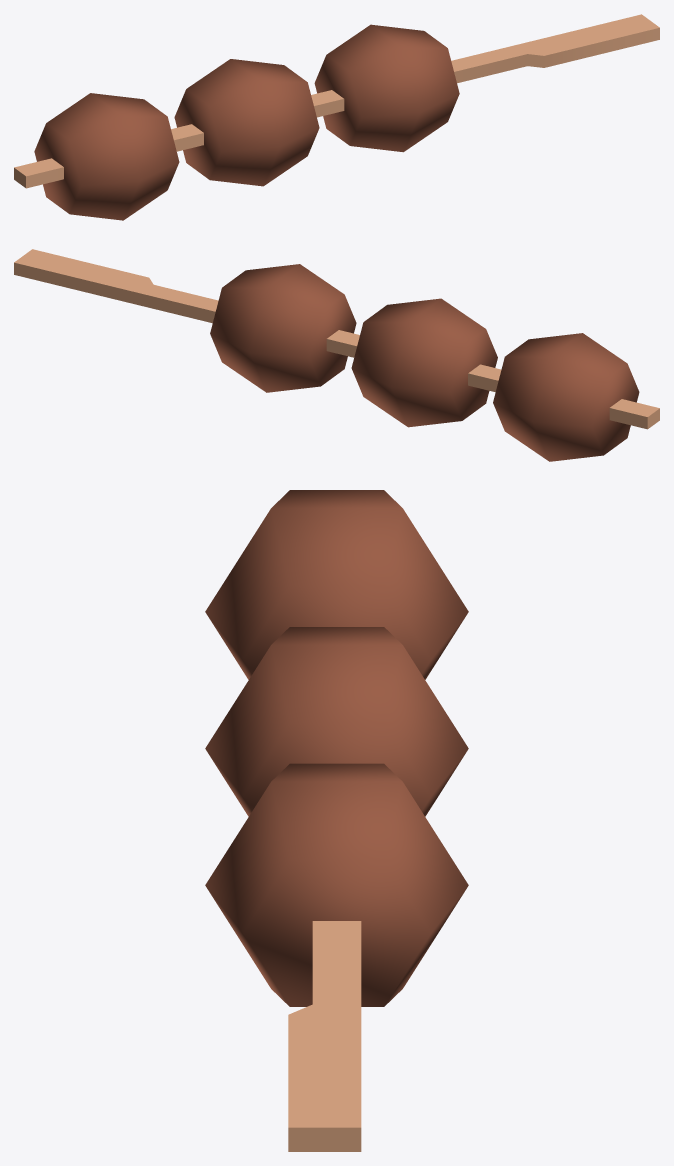
The model's file is espetinho.glb.
3 renders of one model, top to bottom at view 1: azimuth 30°, elevation 25°; view 2: azimuth 150°, elevation 25°; view 3: azimuth 270°, elevation 25°, orthographic. The views are drawn at different scales.
Parts seen in each view (by area): view 1: meat, skewer; view 2: meat, skewer; view 3: meat, skewer.
Boxes of the visible parts, bbox=[...] form: meat: bbox=[34, 24, 459, 220]; skewer: bbox=[14, 14, 659, 188]; meat: bbox=[210, 264, 639, 461]; skewer: bbox=[14, 249, 659, 429]; meat: bbox=[205, 490, 468, 1006]; skewer: bbox=[288, 921, 361, 1151].
Bounding box in the file's own units: 0.5967 × 0.094 × 0.1085.
